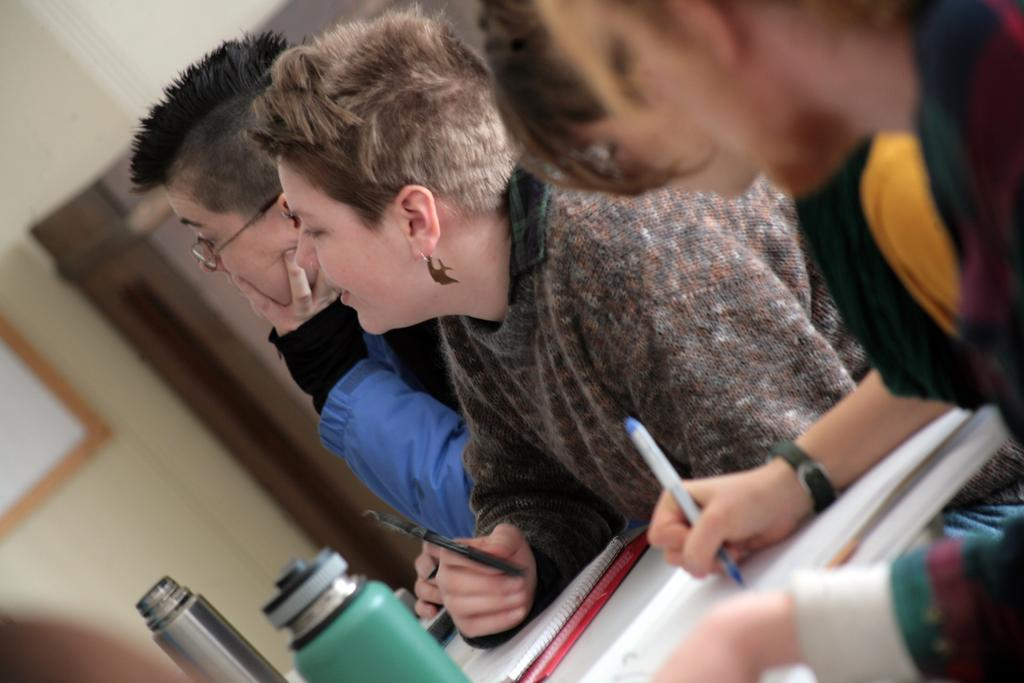pen: (630, 412, 758, 592), (356, 504, 518, 573)
